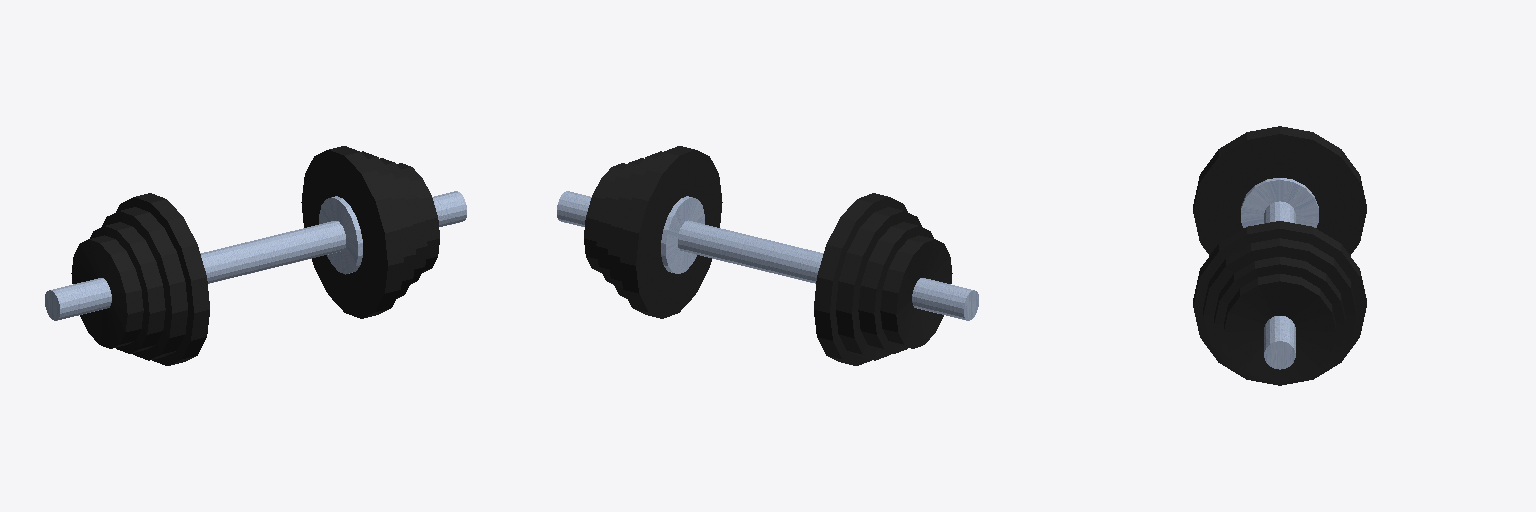
3 views of the same model, side by side, from view 1: azimuth 30°, elevation 25°; view 2: azimuth 150°, elevation 25°; view 3: azimuth 270°, elevation 25° (orthographic).
Parts seen in each view (by area): view 1: Tube013, Cylinder002, Tube012, Tube007, Tube008, Tube011, Tube014, Tube015, Tube016; view 2: Tube013, Cylinder002, Tube012, Tube007, Tube008, Tube011, Tube014, Tube015, Tube016; view 3: Tube007, Tube016, Tube013, Cylinder002, Tube014, Tube015.
Part boxes in pixels (x1,y1,x2,y2): Tube013: (301, 146, 403, 318); Cylinder002: (45, 191, 466, 320); Tube012: (71, 235, 143, 348); Tube007: (116, 193, 209, 365); Tube008: (102, 207, 187, 360); Tube011: (90, 222, 165, 353); Tube014: (362, 151, 415, 298); Tube015: (380, 158, 427, 284); Tube016: (397, 163, 439, 272); Tube013: (620, 146, 722, 318); Cylinder002: (557, 191, 978, 320); Tube012: (880, 235, 952, 348); Tube007: (814, 193, 907, 365); Tube008: (836, 207, 921, 360); Tube011: (858, 222, 933, 353); Tube014: (608, 151, 661, 298); Tube015: (596, 158, 643, 284); Tube016: (584, 163, 626, 272); Tube007: (1193, 126, 1366, 255); Tube016: (1224, 274, 1335, 382); Tube013: (1193, 221, 1366, 385); Cylinder002: (1241, 178, 1318, 369); Tube014: (1203, 238, 1356, 384); Tube015: (1214, 257, 1345, 381).
Bounding box in the file's own units: 3150 × 1162 × 1162.
2 materials, 2 textured.